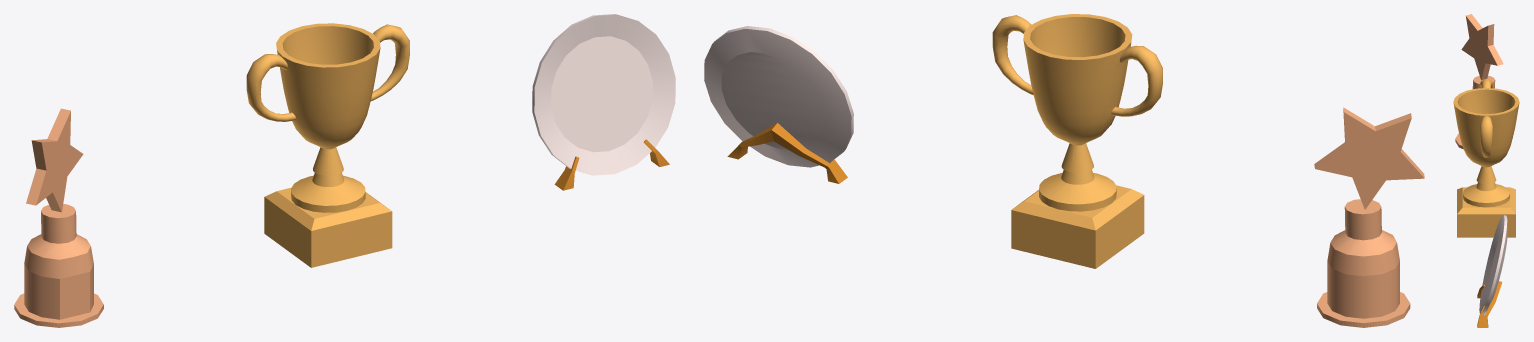
The model's file is Awards.fbx.
The picture shows the model from 3 angles, left to right: view 1: azimuth 30°, elevation 25°; view 2: azimuth 150°, elevation 25°; view 3: azimuth 270°, elevation 25°; orthographic projection. The views are drawn at different scales.
Parts seen in each view (by area): view 1: Awards; view 2: Awards; view 3: Awards.
Part boxes in pixels (x1=…): Awards: x1=14, y1=14, x2=675, y2=327; Awards: x1=704, y1=14, x2=1424, y2=327; Awards: x1=1453, y1=14, x2=1519, y2=327.
Size of the model in its own units: 0.947 by 0.2719 by 0.1288.
